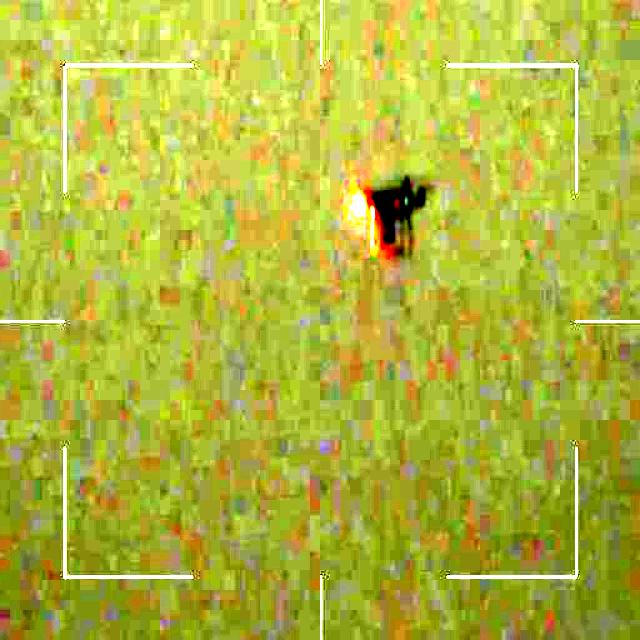bird: (345, 165, 431, 254)
